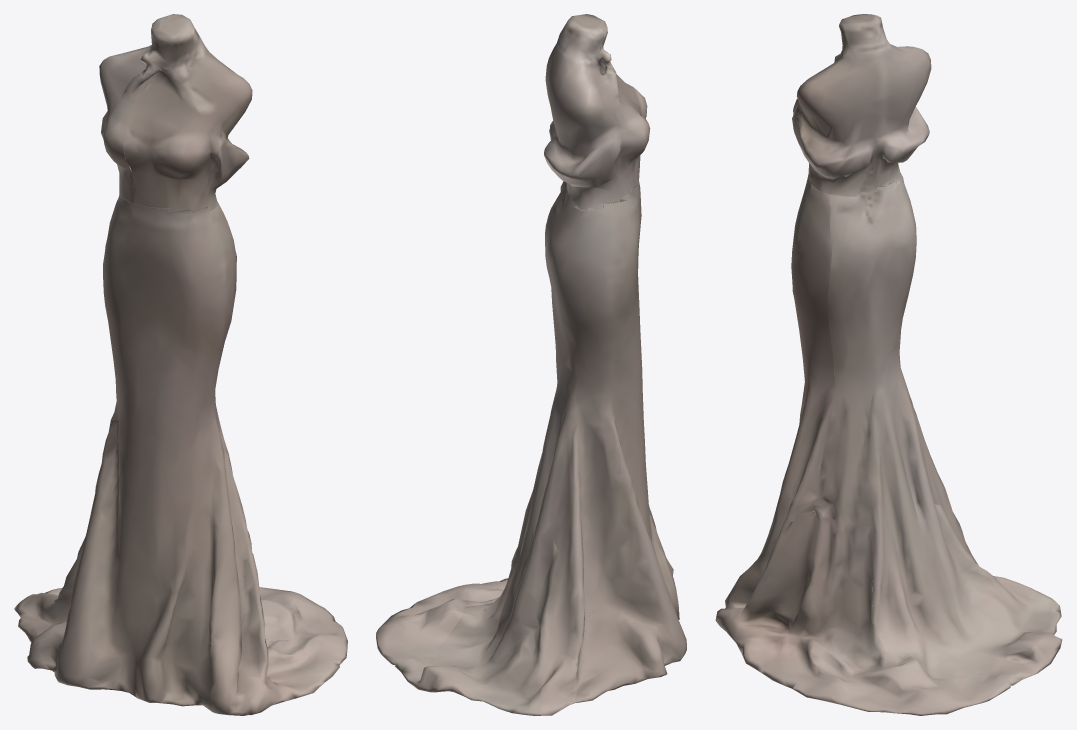
The model's file is ropa_wedding_dress.glb.
3 renders of one model, left to right at view 1: azimuth 30°, elevation 25°; view 2: azimuth 150°, elevation 25°; view 3: azimuth 270°, elevation 25°, orthographic. The views are drawn at different scales.
Parts seen in each view (by area): view 1: Object_4; view 2: Object_4; view 3: Object_4.
Boxes of the visible parts, x1,y1,x2,y2 form: Object_4: (14, 14, 347, 715); Object_4: (376, 14, 686, 715); Object_4: (715, 14, 1062, 715).
Bounding box in the file's own units: 0.7719 × 1.65 × 0.8411.
Materials: 1 (1 with a texture image).
